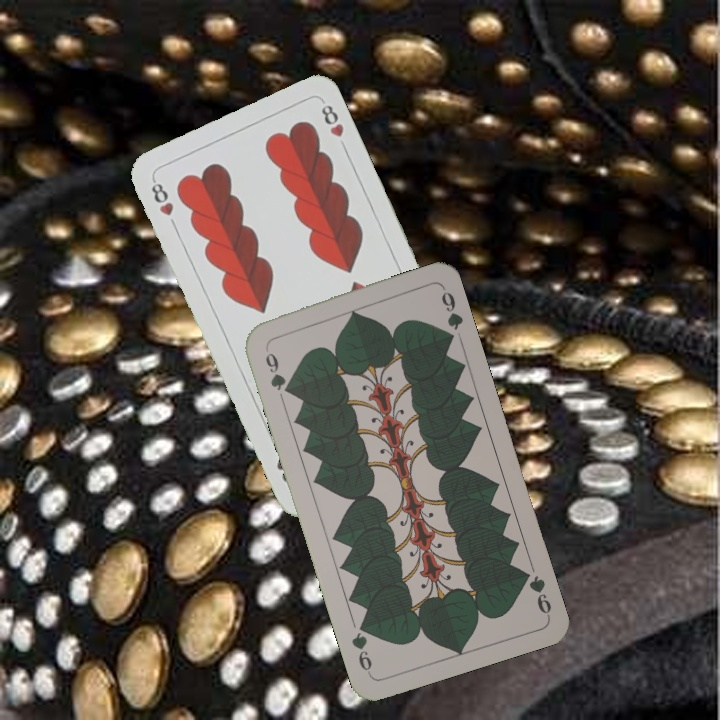G9: (517, 565, 554, 619), (261, 342, 293, 397)
H8: (147, 175, 176, 219)
